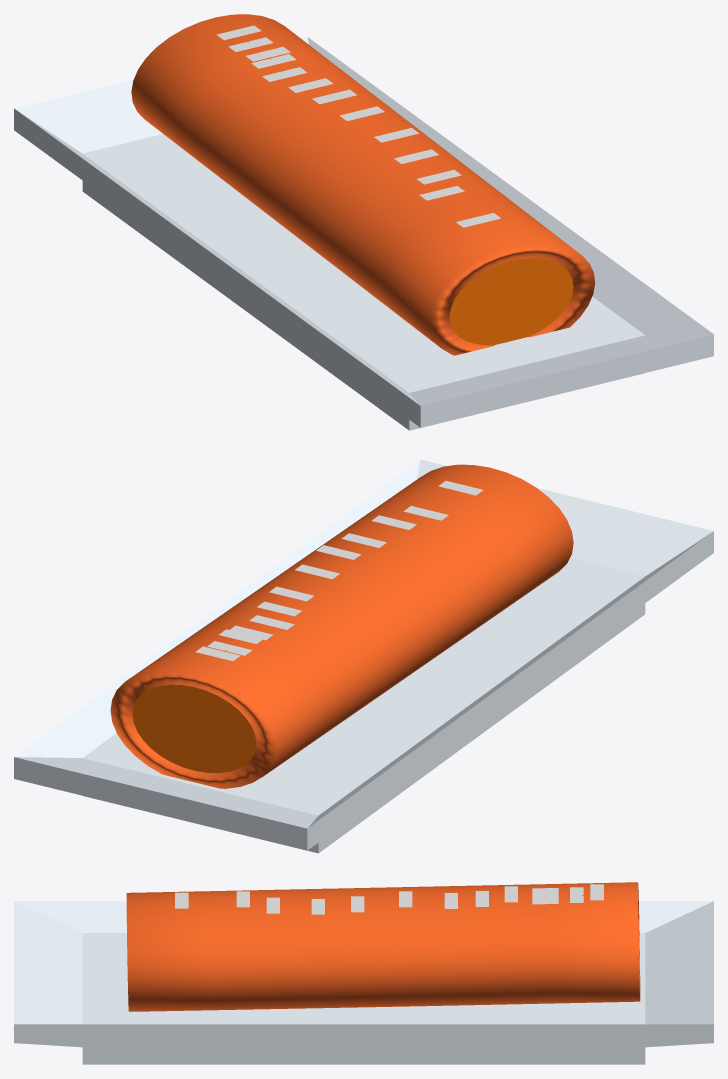
The model's file is ROTI GULUNG keju.fbx.
3 renders of one model, top to bottom at view 1: azimuth 30°, elevation 25°; view 2: azimuth 150°, elevation 25°; view 3: azimuth 270°, elevation 25°, orthographic. The views are drawn at different scales.
Parts seen in each view (by area): view 1: Cube, Cylinder.003, Cylinder.002; view 2: Cube, Cylinder.003, Cylinder.002; view 3: Cylinder.003, Cube.
Boxes of the visible parts, x1,y1,x2,y2 form: Cube: (14, 36, 713, 430); Cylinder.003: (131, 14, 594, 355); Cylinder.002: (449, 258, 573, 345); Cube: (14, 459, 713, 853); Cylinder.003: (110, 464, 573, 788); Cylinder.002: (132, 684, 256, 772); Cylinder.003: (126, 882, 640, 1011); Cube: (14, 901, 713, 1064).
Size of the model in its own units: 118 by 56.75 by 283.
